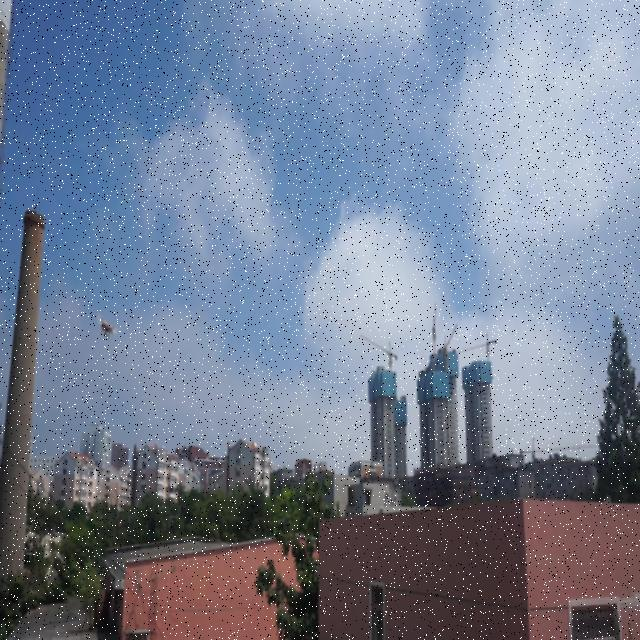UAV: (97, 313, 119, 341)
